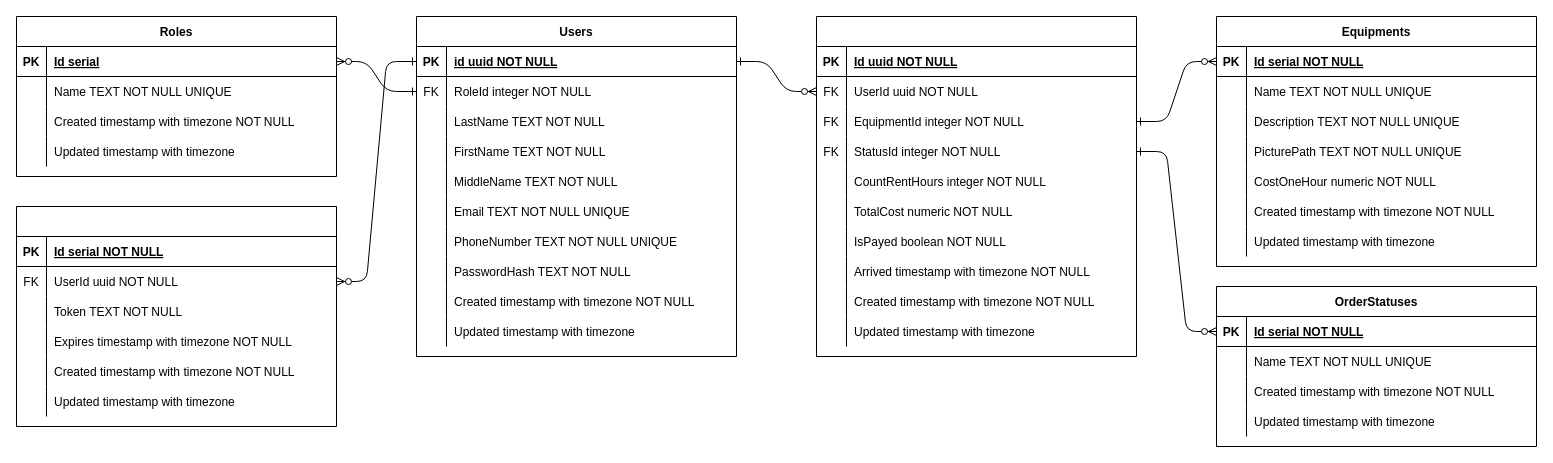
The diagram is 1553 pixels wide and 463 high, and some of its shapes have lost their labels. Each missing label, with the box of its shape:
Orders: (816, 16, 1136, 356)
Sessions: (16, 206, 336, 426)
